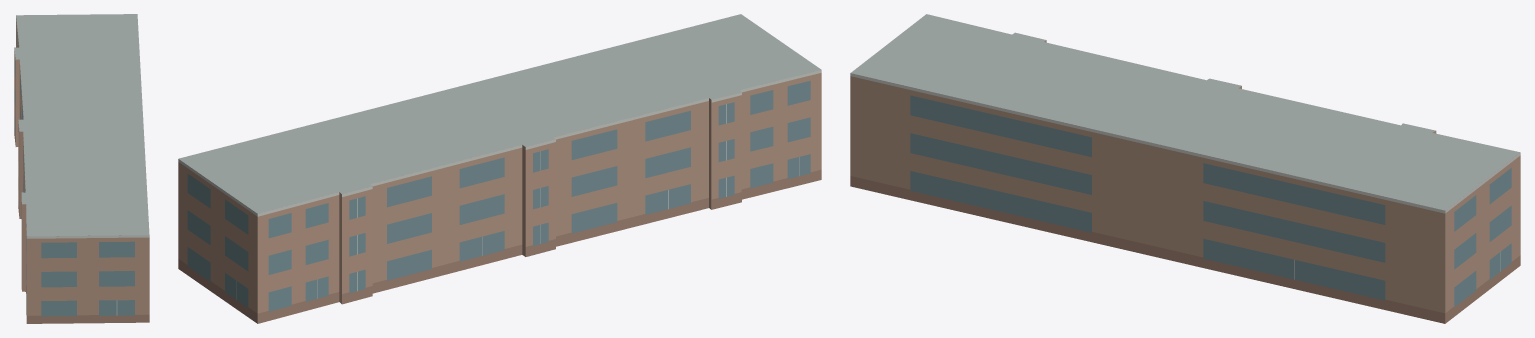
Rendered from survey-upis-33028717.glb.
3 renders of one model, left to right at view 1: azimuth 30°, elevation 25°; view 2: azimuth 150°, elevation 25°; view 3: azimuth 270°, elevation 25°, orthographic. The views are drawn at different scales.
Parts seen in each view (by area): view 1: survey-upis-33028717.tmp; view 2: survey-upis-33028717.tmp; view 3: survey-upis-33028717.tmp.
Part boxes in pixels (box(x1,y1,x2,y2)): survey-upis-33028717.tmp: box(14, 14, 149, 323); survey-upis-33028717.tmp: box(178, 14, 821, 323); survey-upis-33028717.tmp: box(850, 14, 1520, 323).
Size of the model in its own units: 34.06 by 9.15 by 49.05.
